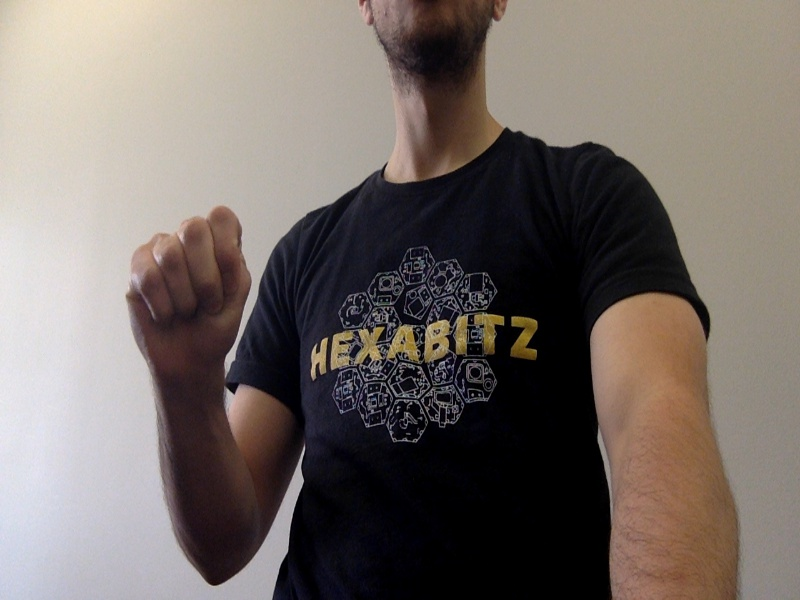0-hand: (126, 208, 250, 374)
